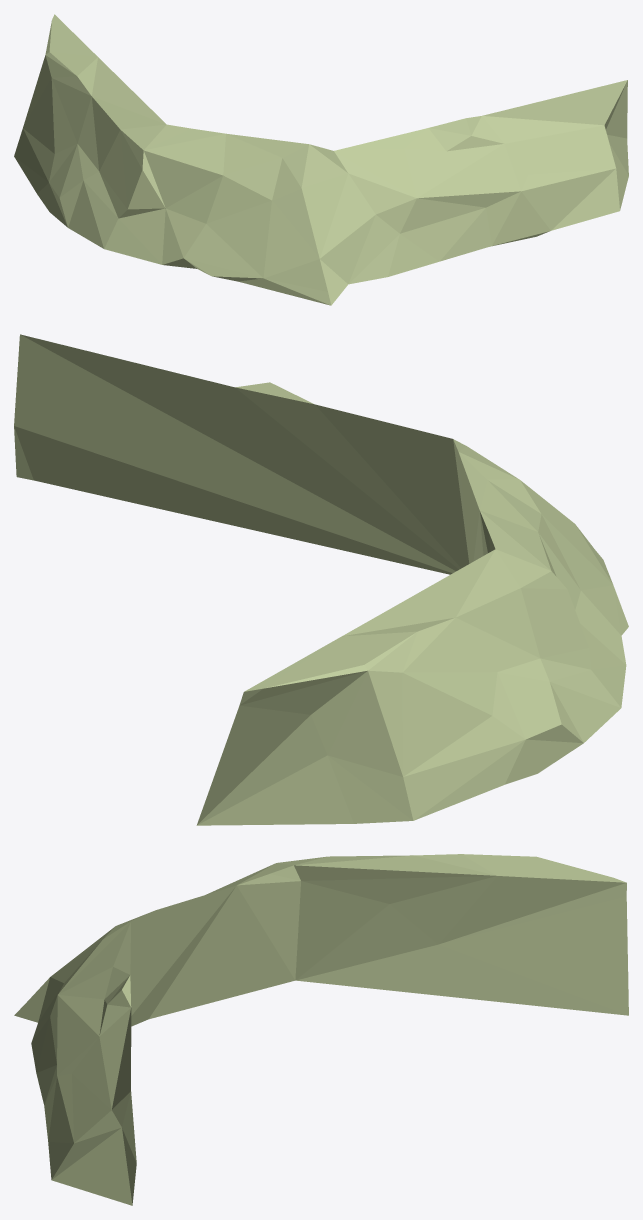
File: hill_11.gltf
The picture shows the model from 3 angles, top to bottom: view 1: azimuth 30°, elevation 25°; view 2: azimuth 150°, elevation 25°; view 3: azimuth 270°, elevation 25°; orthographic projection. The views are drawn at different scales.
Parts seen in each view (by area): view 1: hill; view 2: hill; view 3: hill.
Boxes of the visible parts, <box> form: hill: <box>14,14,628,305</box>; hill: <box>14,334,628,825</box>; hill: <box>14,854,628,1205</box>.
Bounding box in the file's own units: 7.95 × 1.77 × 7.6.
